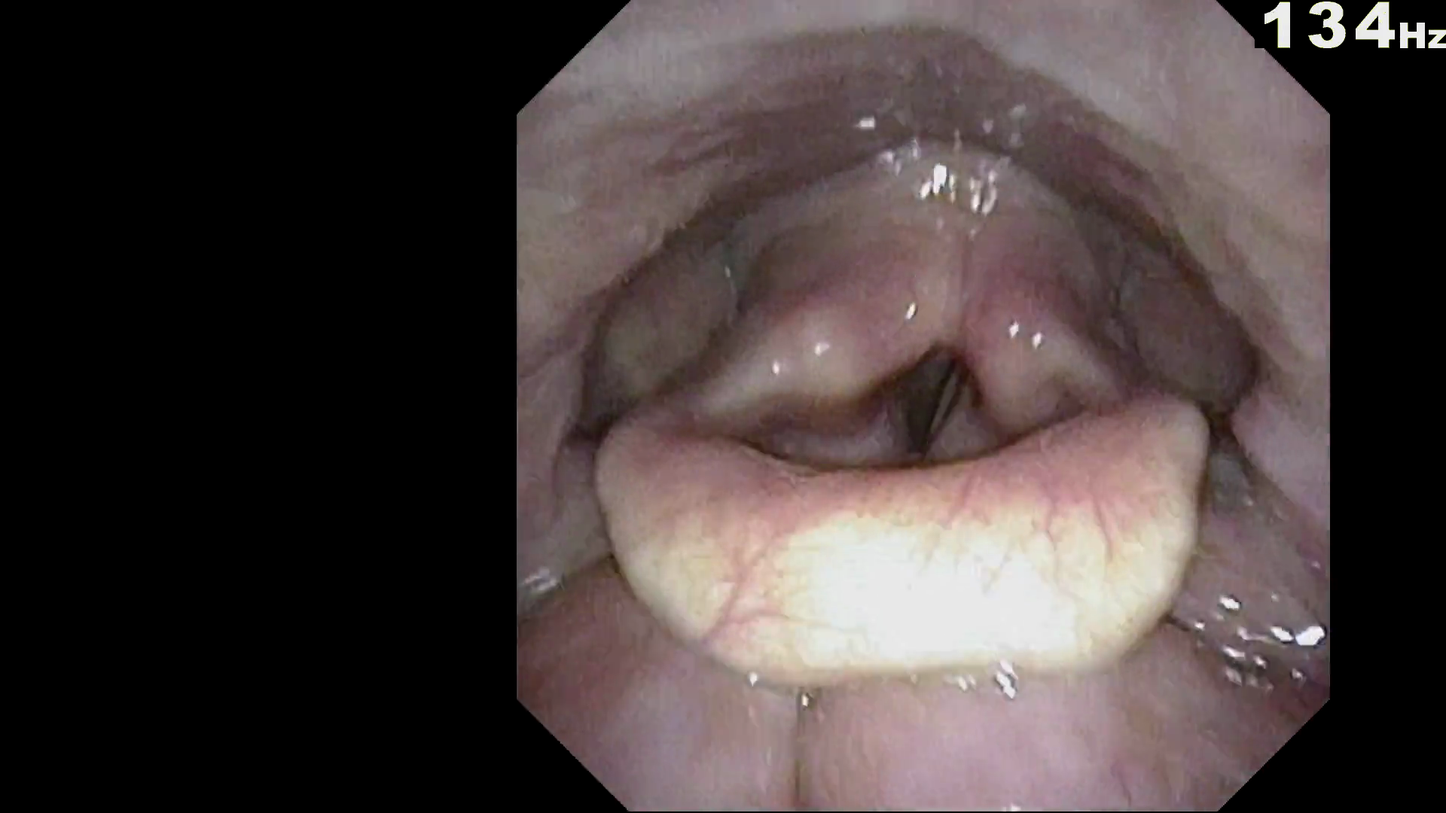epiglottis: (612, 367, 1199, 631)
trachea: (880, 330, 991, 453)
